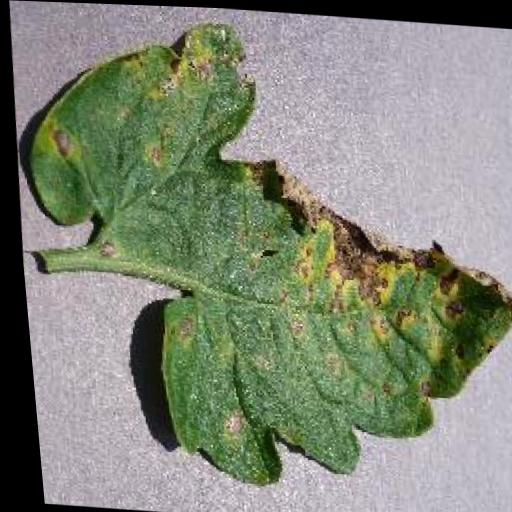Septoria: (6, 11, 512, 503)
